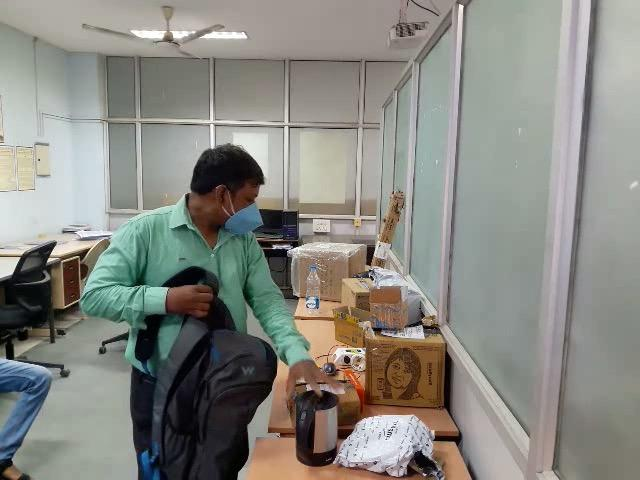shoplifting: (88, 259, 362, 468)
